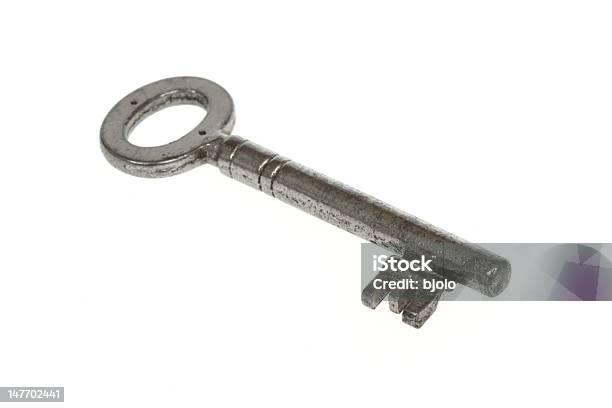key: (96, 74, 508, 325)
